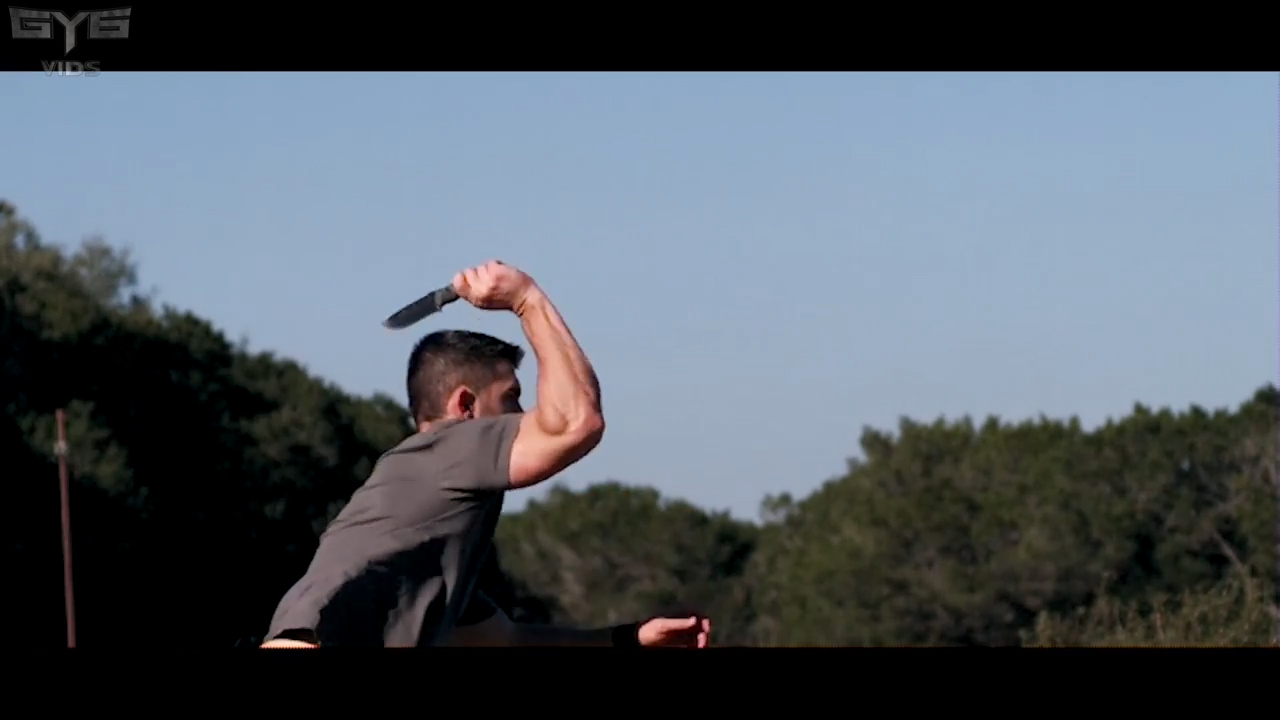knife: (369, 249, 527, 337)
